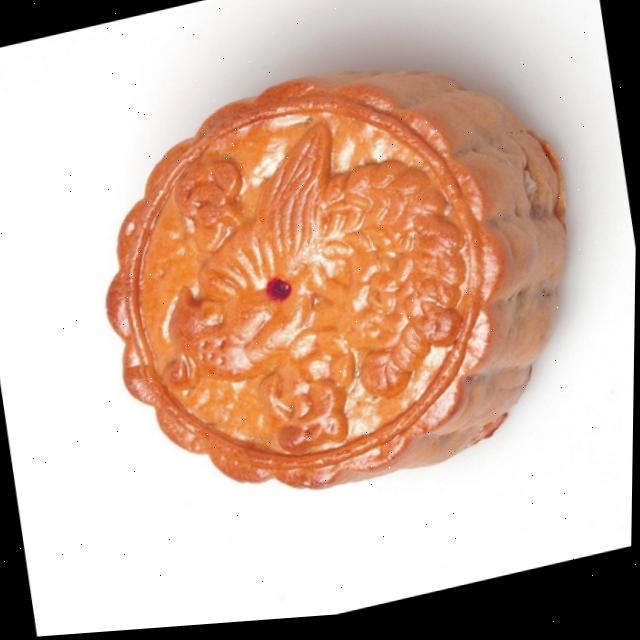蛋糕甜品: (52, 1, 611, 584)
